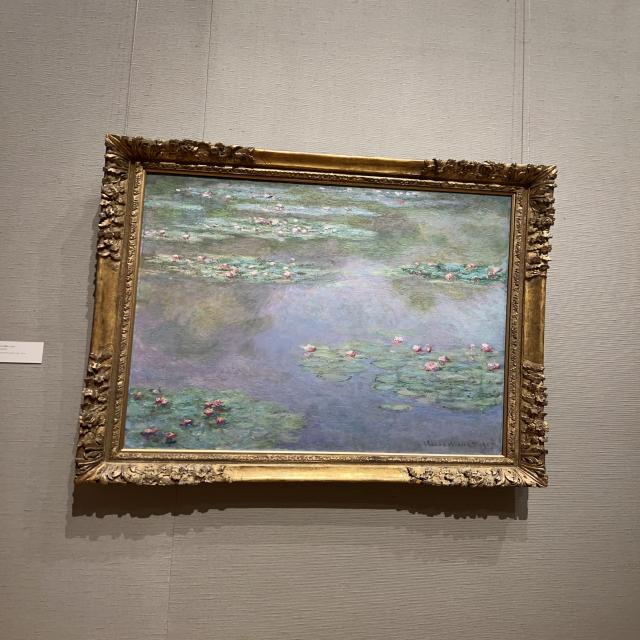lilies: (124, 173, 512, 454)
